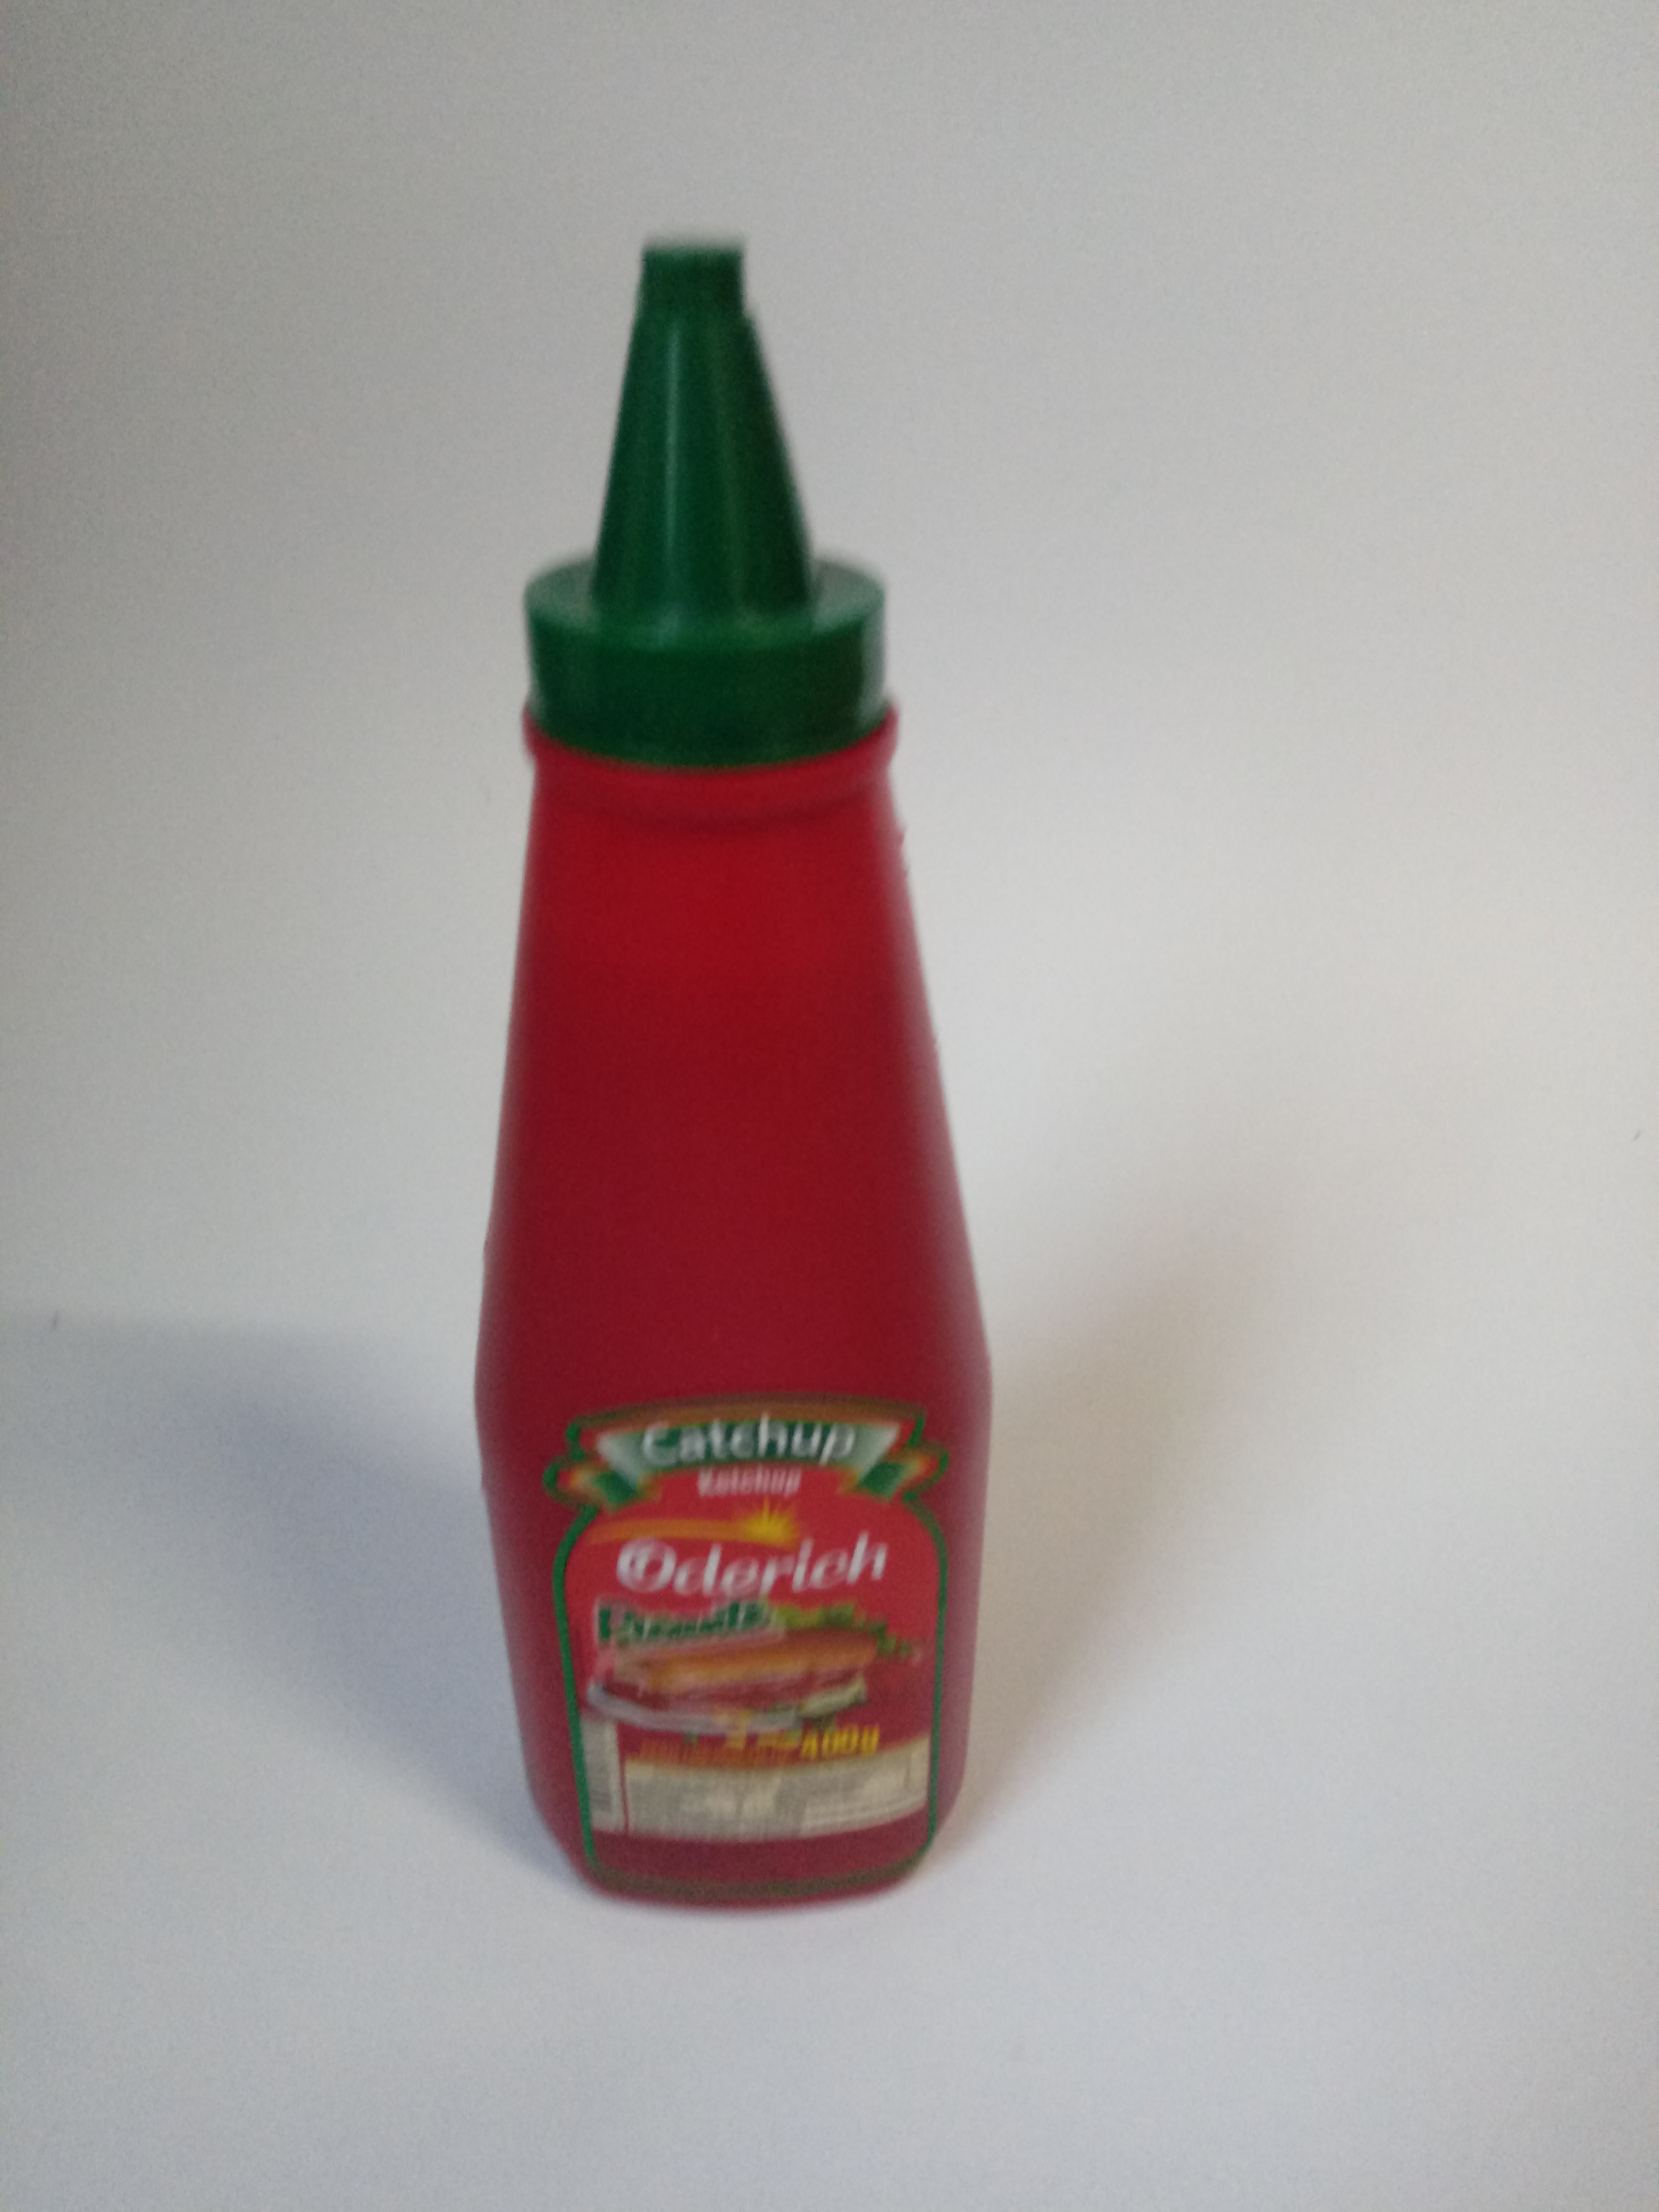catchup-oderich: (444, 190, 995, 1937)
